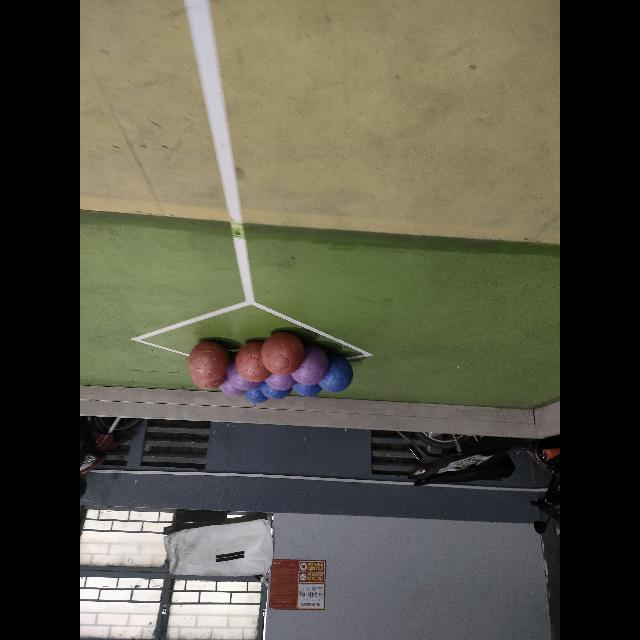B: (319, 356, 353, 392), (292, 383, 322, 397), (243, 388, 267, 404)
P: (292, 346, 328, 384), (227, 359, 259, 391), (265, 374, 295, 391)
R: (261, 333, 305, 375), (188, 341, 230, 385), (232, 342, 272, 381)
